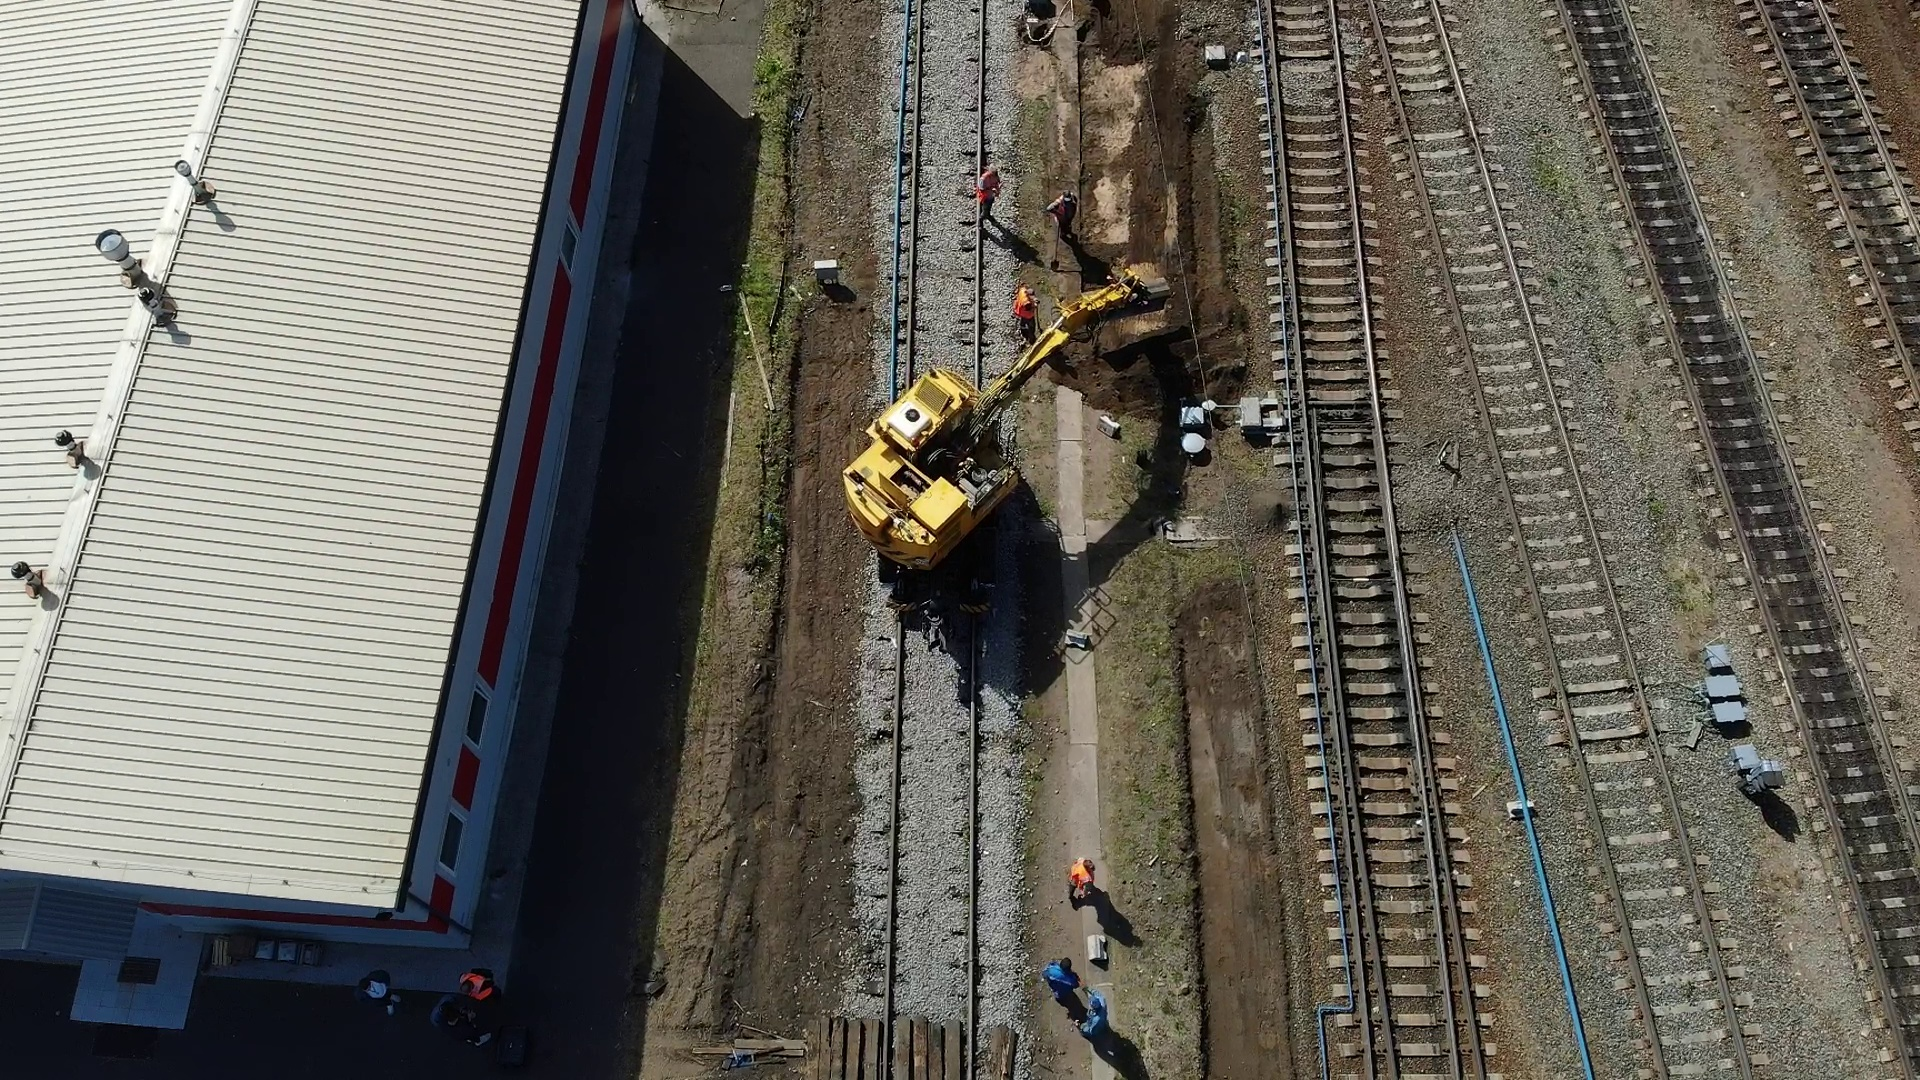kjtv: (836, 367, 1040, 596)
